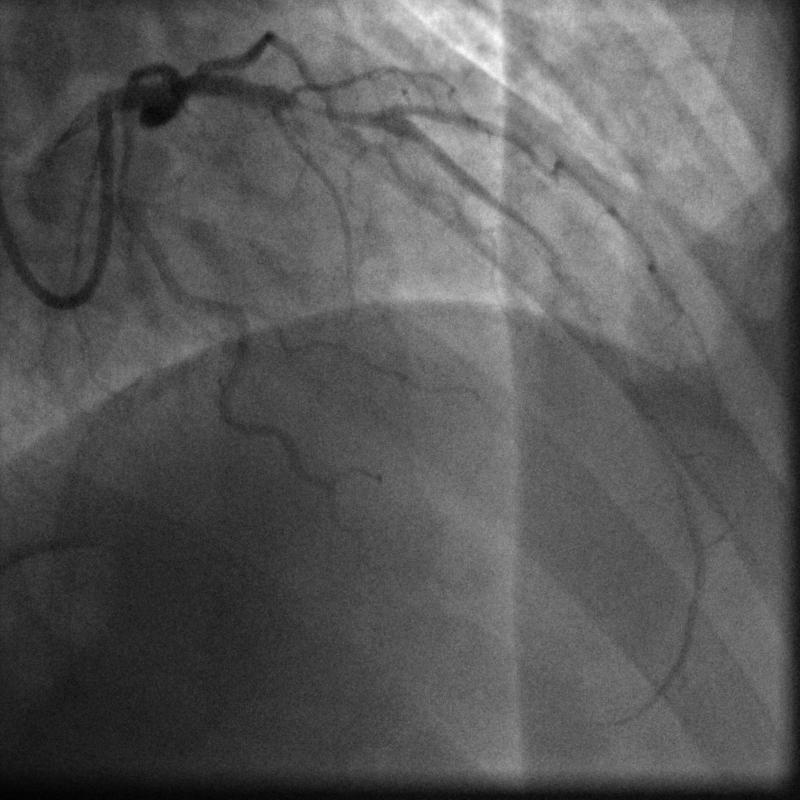Stenosis: (285, 89, 376, 129)
